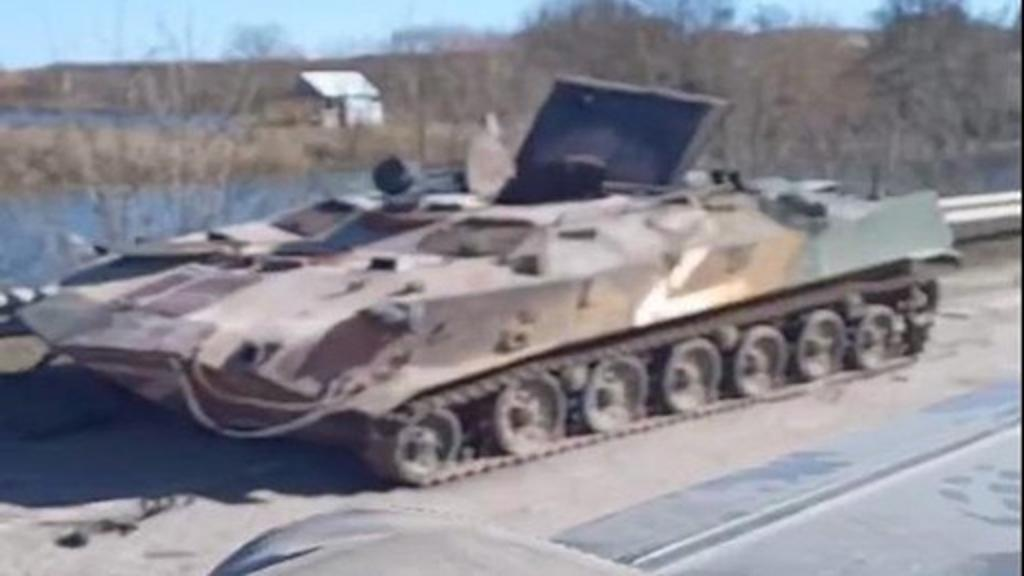APC-IFV: (6, 132, 952, 498)
